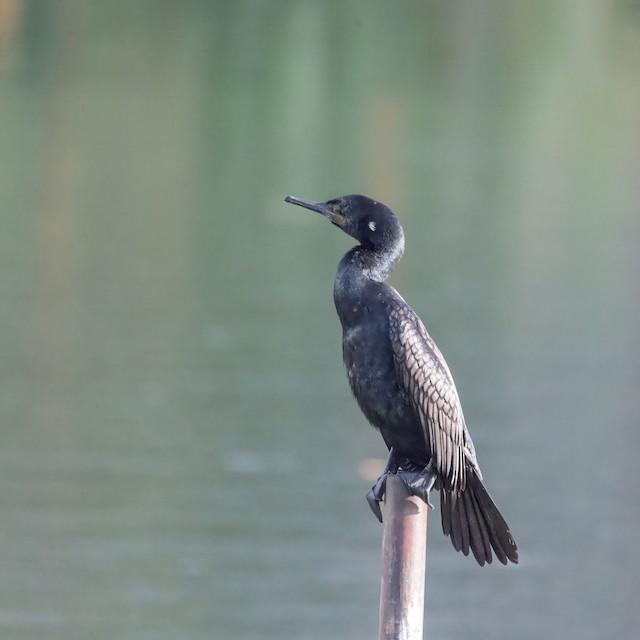cormorant: (282, 193, 526, 565)
